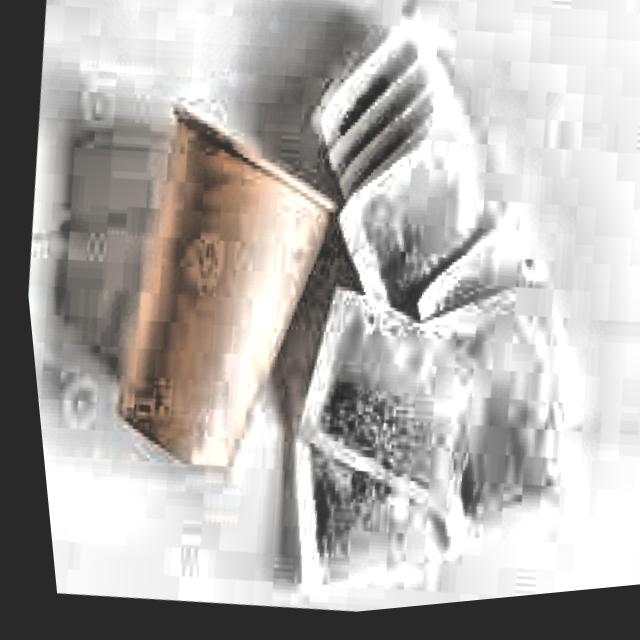Cup: (51, 78, 369, 518)
